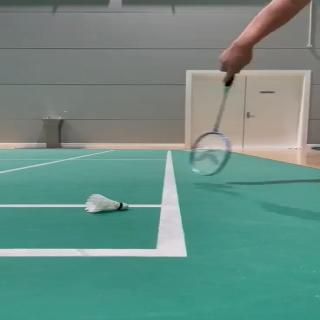Shuttle: (84, 194, 129, 213)
